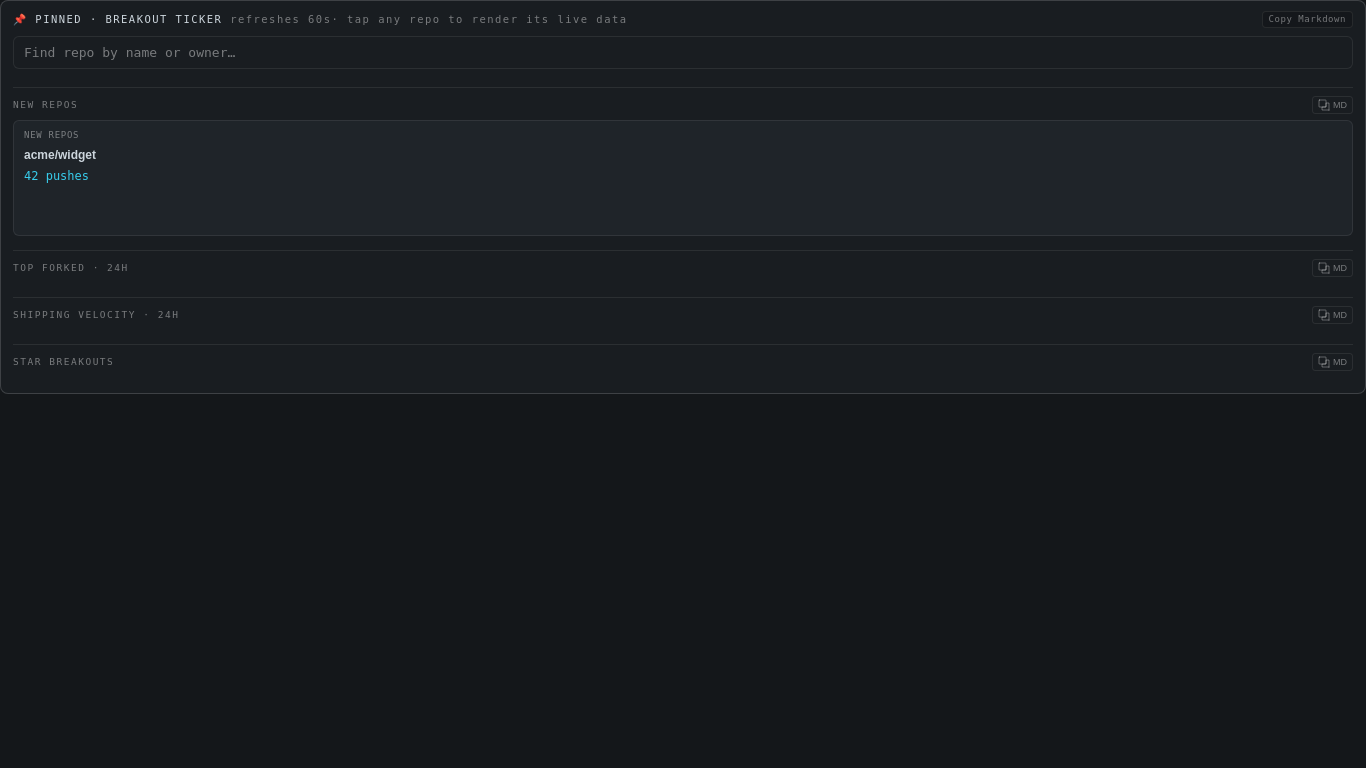
Test case: TickerRail › supports Escape without clearing the loaded details state
Click the button with aria-label "open live clickhouse details for acme/widget" at [683, 178], box [14,121,1352,235]
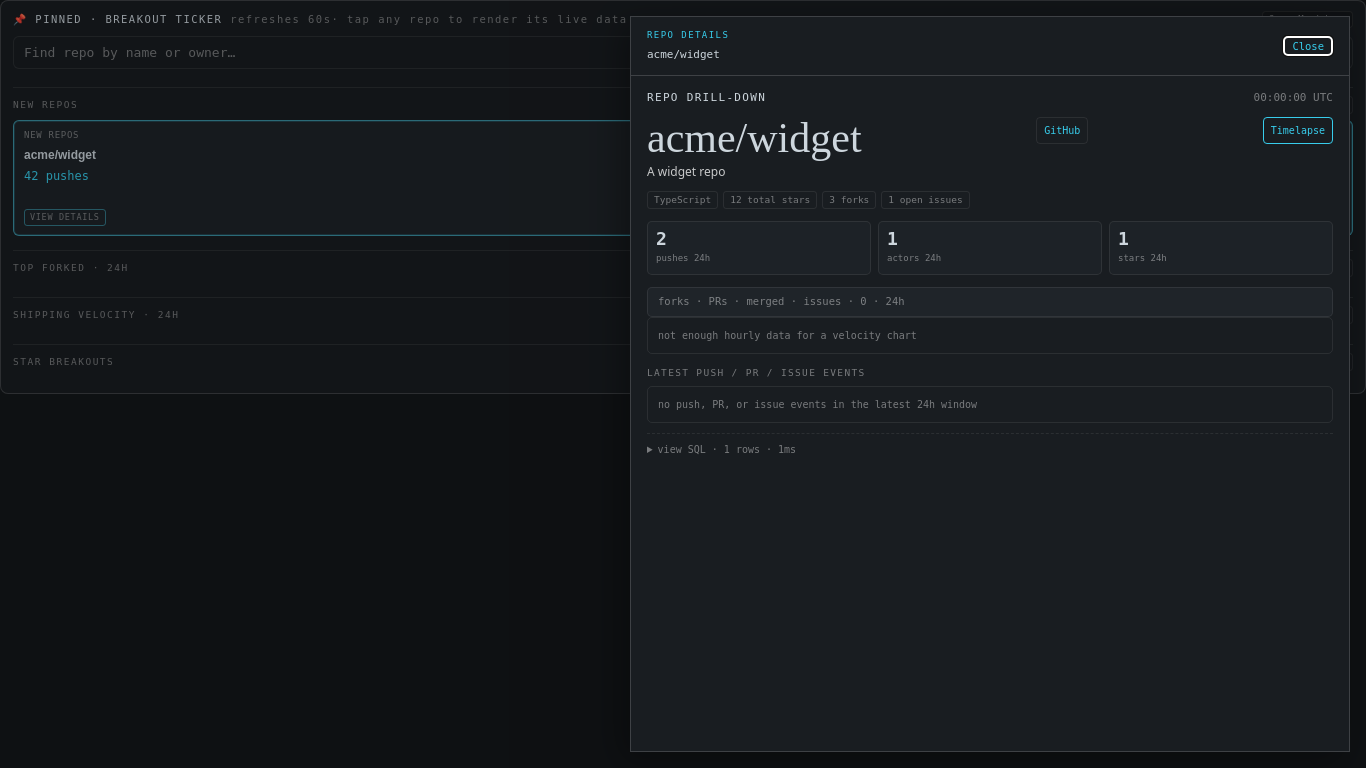
expect the heading "acme/widget" is shown: met, box [647,116,862,158]
Press Escape
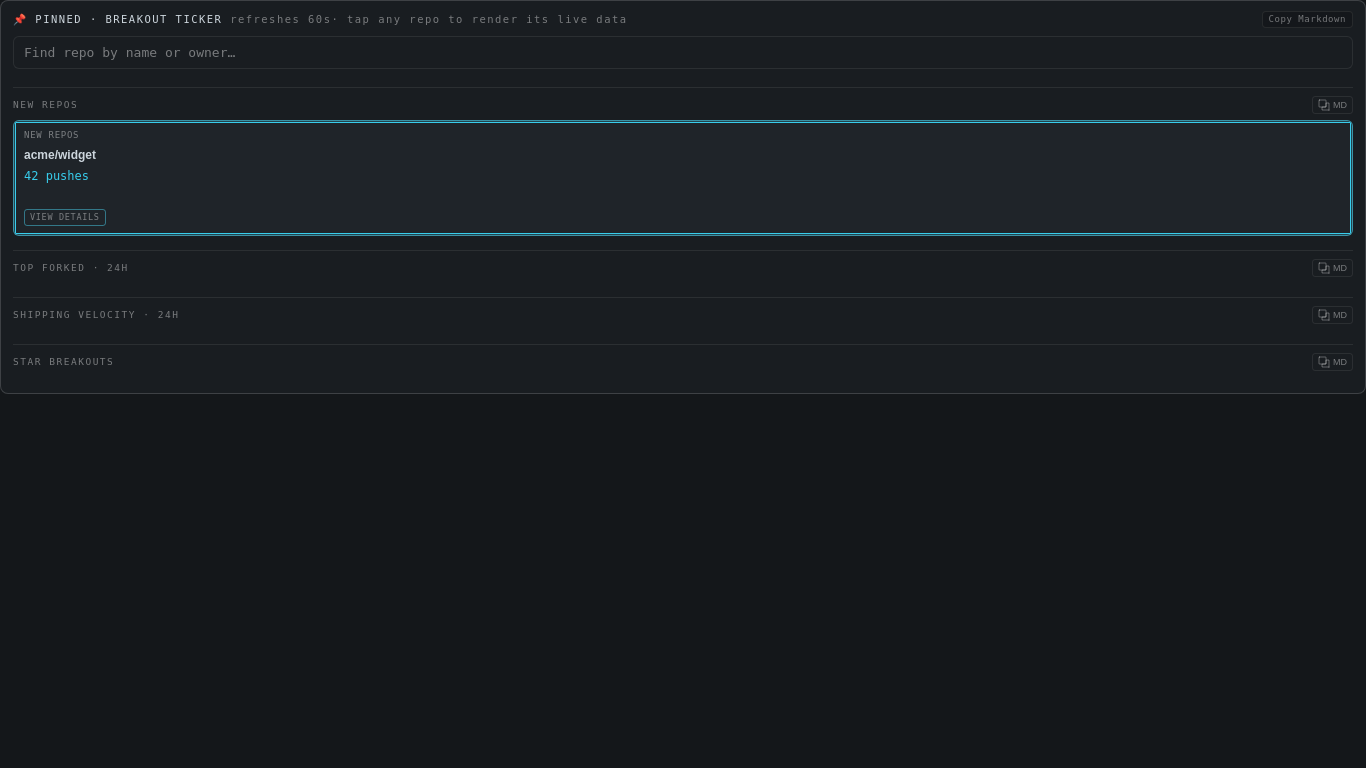
expect the text "REPO DETAILS" is gone: met
